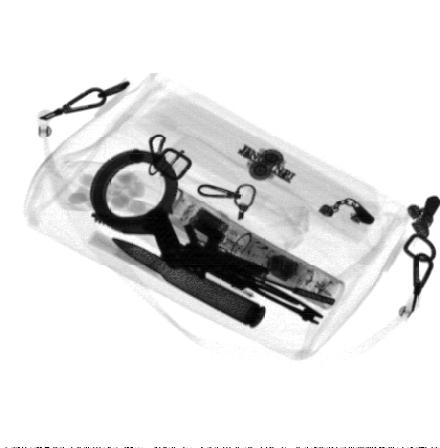Baton: (156, 186, 345, 308)
Bullet: (113, 238, 266, 328)
Gun: (184, 223, 336, 306)
HandCuffs: (90, 147, 196, 267)
